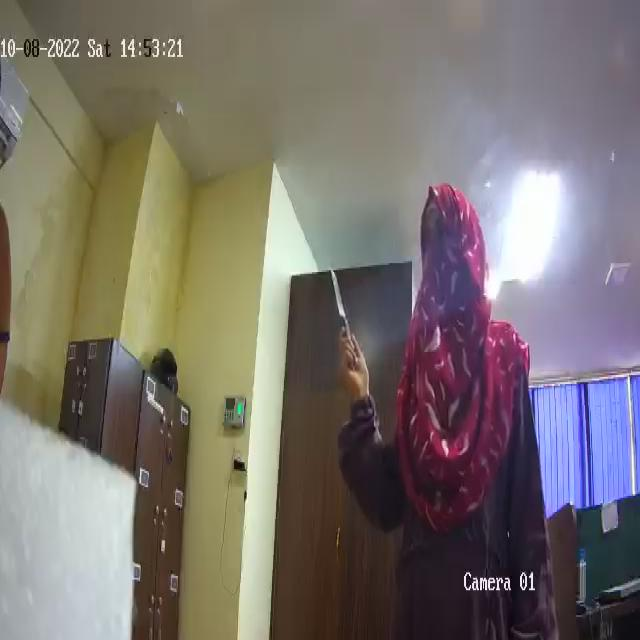weapon: (327, 262, 360, 372)
